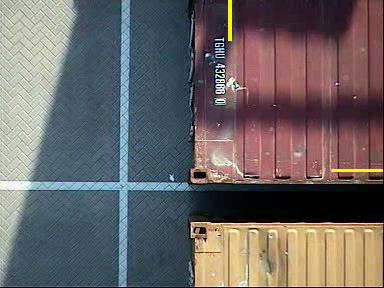groundmarker_2: (97, 181, 150, 211)
